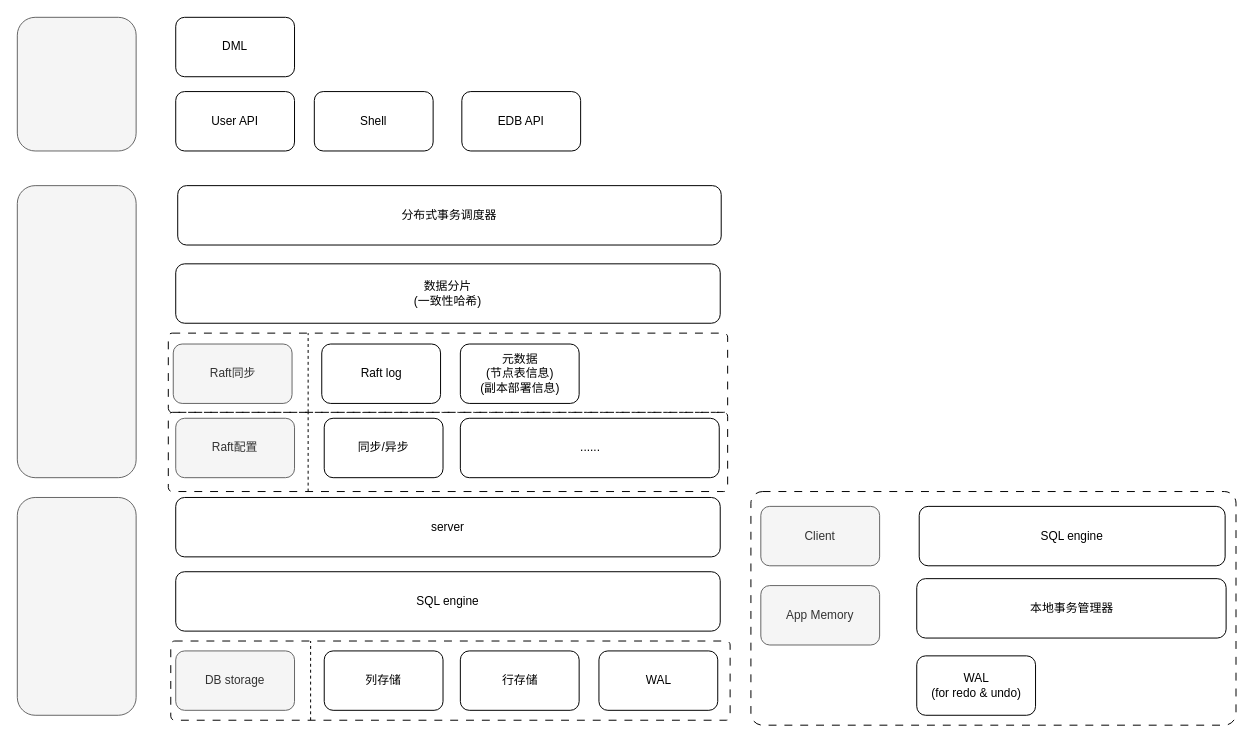
Image size: 1253x743. Some labels were removed from this diagram. The shapes that lost their labels are listed below. From the top down, each one's box as (x1, y1, x2, y2) in pixels, then its label:
(16, 16, 136, 151): User
(16, 185, 136, 478): 分片协调集群 (中继器)
(16, 496, 136, 715): 数据节点
